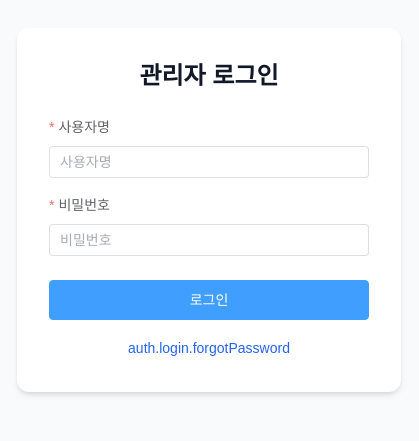
Test: LoginView › 423 응답 시 계정 잠김 메시지를 표시한다
Type "admin" into the field named "username" at (209, 162), box [60,147,358,177]
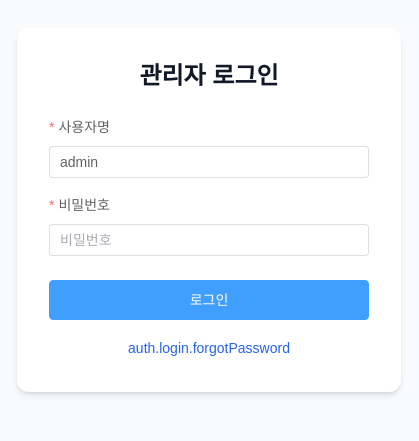
Type "password1" into the password field named "password" at (209, 240), box [60,225,358,255]
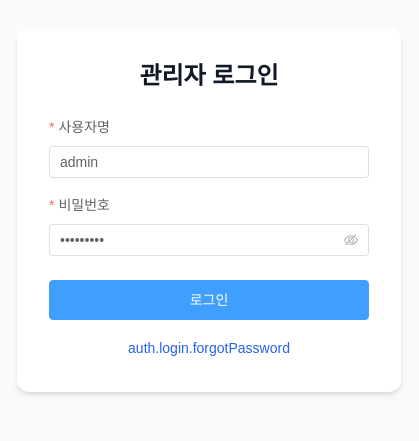
Submit the form, box [49,116,369,360]
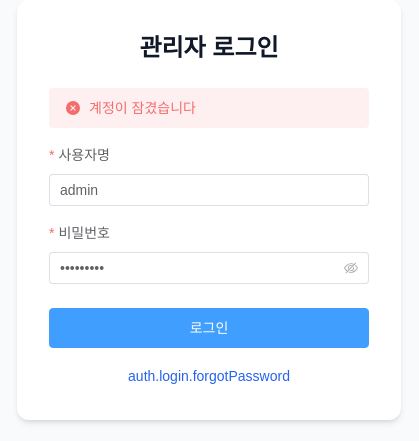
Expected: the message "계정이 잠겼습니다" is shown, [49,88,369,128]
Expected: the message with test id "login-error" shows "잠겼습니다", [89,100,196,116]
